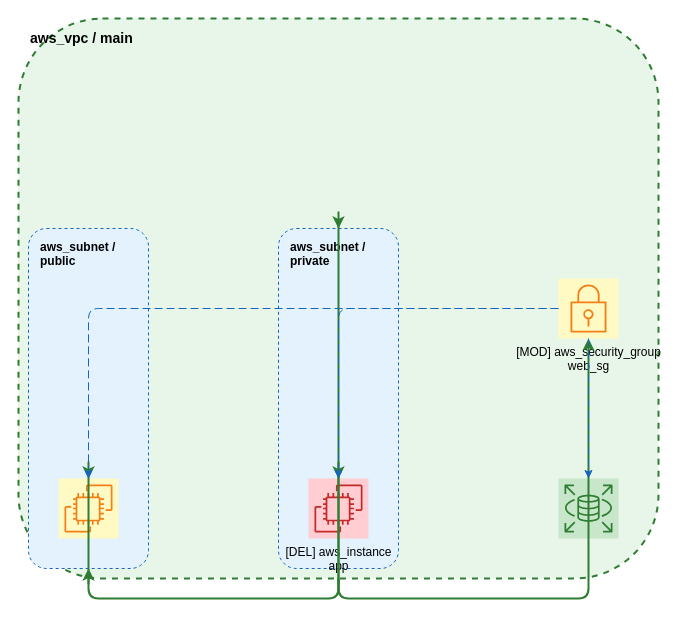
This 678x624 diagram has some shape labels left out. Here are the shapes that lost their labels. From the top down, the centre of each, then its label:
(x=88, y=508): [MOD] aws_instance web
(x=588, y=508): [NEW] aws_db_instance main
